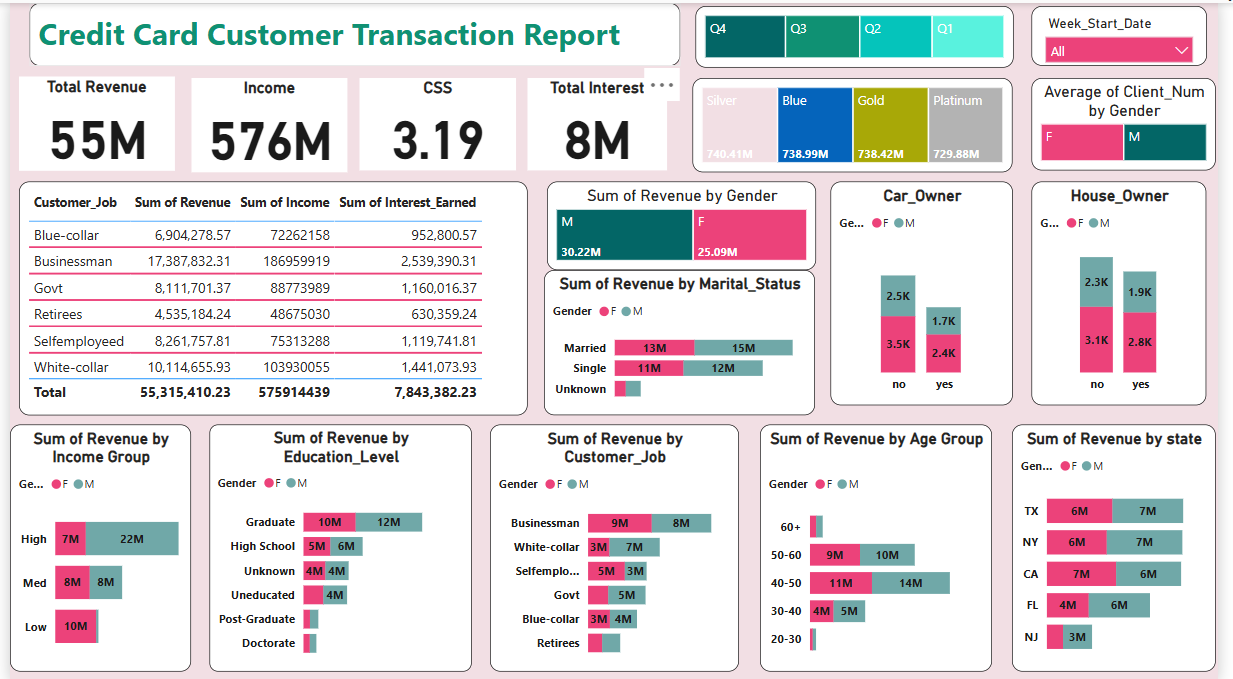

The dashboard page shown, as its layout file describes it:
{"tool":"powerbi","page":{"name":"Customer","canvas":[1280,720],"ordinal":2},"visuals":[{"type":"tableEx","title":"QTR Revenue and Total Transaction Volume","fields":{"Values":["customer.Customer_Job","Sum(credit_card.Revenue)","Sum(customer.Income)","Sum(credit_card.Interest_Earned)"]},"box":[9.5,189.3,539.2,248.1],"z":0},{"type":"barChart","title":"Sum of Revenue by Income Group ","fields":{"Y":["Sum(credit_card.Revenue)"],"Category":["customer.Income Group"],"Series":["customer.Gender"]},"box":[0,446.5,192.2,262.3],"z":1000},{"type":"card","title":"Total Revenue","fields":{"Values":["Sum(credit_card.Revenue)"]},"box":[9.5,77.9,165,100],"z":2000},{"type":"card","title":"Income","fields":{"Values":["Sum(customer.Income)"]},"box":[192.5,79.5,165.4,100.2],"z":3000},{"type":"card","title":"Total Interest","fields":{"Values":["Sum(credit_card.Interest_Earned)"]},"box":[548.6,80.1,148.2,98.1],"z":4000},{"type":"card","title":"CSS","fields":{"Values":["Avg(customer.Cust_Satisfaction_Score)"]},"box":[370.4,80.1,166.2,98.1],"z":5000},{"type":"slicer","fields":{"Values":["credit_card.Week_Start_Date"]},"box":[1083.2,3.2,186.1,63.6],"z":6000},{"type":"treemap","fields":{"Group":["customer.Gender"],"Values":["Avg(credit_card.Client_Num)"]},"box":[1083.8,79.8,195.6,97.8],"z":7000},{"type":"treemap","fields":{"Group":["credit_card.Qtr"],"Values":["Avg(credit_card.Client_Num)"]},"box":[726.9,3.2,337.2,65.2],"z":8000},{"type":"treemap","fields":{"Group":["credit_card.Card_Category"],"Values":["Avg(credit_card.Client_Num)"]},"box":[724.5,79.8,339.3,99.8],"z":9000},{"type":"textbox","box":[20.7,0,690.3,66.8],"z":10000},{"type":"treemap","fields":{"Group":["customer.Gender"],"Values":["Sum(credit_card.Revenue)"]},"box":[568.8,189.6,285.4,93.8],"z":11000},{"type":"columnChart","title":"Car_Owner ","fields":{"Category":["customer.Car_Owner"],"Y":["CountNonNull(customer.Client_Num)"]},"box":[870.2,189.6,193.6,237.5],"z":12000},{"type":"barChart","title":"Sum of Revenue by Age Group ","fields":{"Y":["Sum(credit_card.Revenue)"],"Category":["customer.Age Group"],"Series":["customer.Gender"]},"box":[794.8,446.5,246.3,262.3],"z":13000},{"type":"barChart","title":"Sum of Revenue by Customer_Job","fields":{"Y":["Sum(credit_card.Revenue)"],"Category":["customer.Customer_Job"],"Series":["customer.Gender"]},"box":[508.5,446.5,264.3,262.3],"z":14000},{"type":"barChart","title":"Sum of Revenue by Education_Level ","fields":{"Y":["Sum(credit_card.Revenue)"],"Category":["customer.Education_Level"],"Series":["customer.Gender"]},"box":[212.2,446.5,278.3,262.3],"z":15000},{"type":"barChart","title":"Sum of Revenue by state","fields":{"Y":["Sum(credit_card.Revenue)"],"Category":["customer.state_cd"],"Series":["customer.Gender"]},"box":[1063.1,446.5,216.2,262.3],"z":16000},{"type":"barChart","title":"Sum of Revenue by Marital_Status ","fields":{"Y":["Sum(credit_card.Revenue)"],"Category":["customer.Marital_Status"],"Series":["customer.Gender"]},"box":[566.8,283.4,287.4,153.7],"z":17000},{"type":"columnChart","title":"House_Owner ","fields":{"Category":["customer.House_Owner"],"Y":["CountNonNull(customer.Client_Num)"]},"box":[1083.8,189.6,185.6,237.5],"z":18000}]}

Visuals, with their boxes in screenshot pixels (x1, y1, x2, y2), scaled from the page's 1280x720 canvas onto the 1233x679 screenshot:
"QTR Revenue and Total Transaction Volume" tableEx: [9, 179, 529, 412]
"Sum of Revenue by Income Group " barChart: [0, 421, 185, 668]
"Total Revenue" card: [9, 73, 168, 168]
"Income" card: [185, 75, 345, 169]
"Total Interest" card: [528, 76, 671, 168]
"CSS" card: [357, 76, 517, 168]
slicer - credit_card.Week_Start_Date: [1043, 3, 1223, 63]
treemap - customer.Gender x Avg(credit_card.Client_Num): [1044, 75, 1232, 167]
treemap - credit_card.Qtr x Avg(credit_card.Client_Num): [700, 3, 1025, 65]
treemap - credit_card.Card_Category x Avg(credit_card.Client_Num): [698, 75, 1025, 169]
textbox: [20, 0, 685, 63]
treemap - customer.Gender x Sum(credit_card.Revenue): [548, 179, 823, 267]
"Car_Owner " columnChart: [838, 179, 1025, 403]
"Sum of Revenue by Age Group " barChart: [766, 421, 1003, 668]
"Sum of Revenue by Customer_Job" barChart: [490, 421, 744, 668]
"Sum of Revenue by Education_Level " barChart: [204, 421, 472, 668]
"Sum of Revenue by state" barChart: [1024, 421, 1232, 668]
"Sum of Revenue by Marital_Status " barChart: [546, 267, 823, 412]
"House_Owner " columnChart: [1044, 179, 1223, 403]
